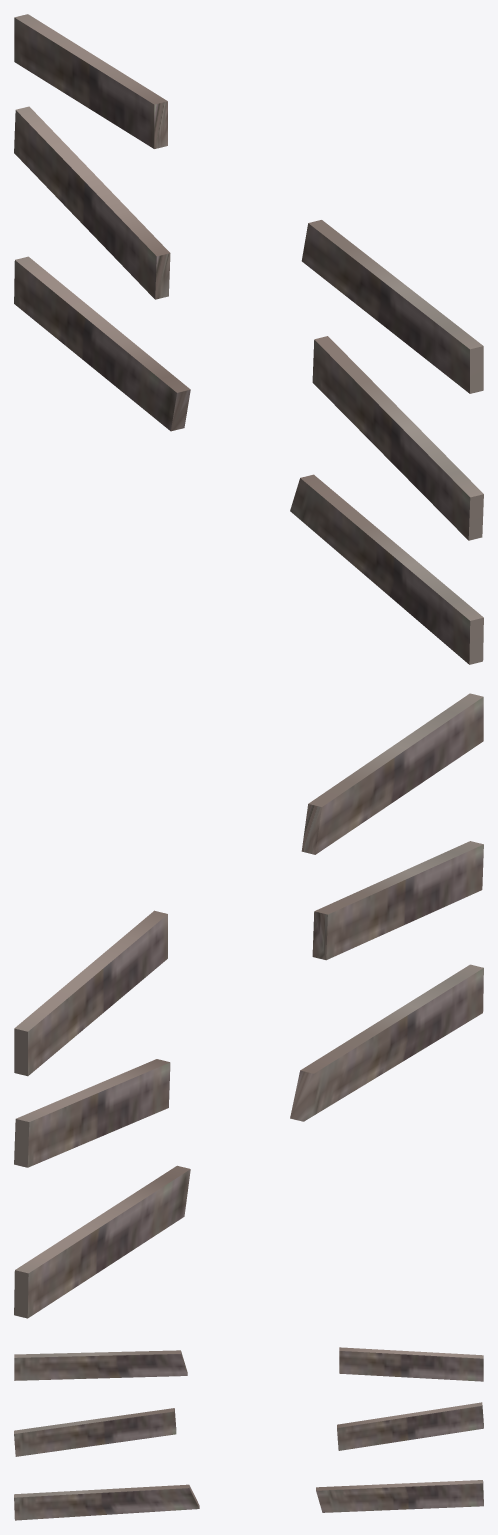
The model's file is board_break.glb.
3 views of the same model, one above another, from view 1: azimuth 30°, elevation 25°; view 2: azimuth 150°, elevation 25°; view 3: azimuth 270°, elevation 25° (orthographic). The views are drawn at different scales.
Visible parts, largest first — view 1: Cube_003; view 2: Cube_003; view 3: Cube_003.
Part boxes in pixels (bbox=[...]): Cube_003: bbox=[14, 14, 483, 664]; Cube_003: bbox=[14, 693, 483, 1318]; Cube_003: bbox=[14, 1347, 483, 1520].
Bounding box in the file's own units: 0.0409 × 0.9397 × 2.36.
1 material, 1 textured.
